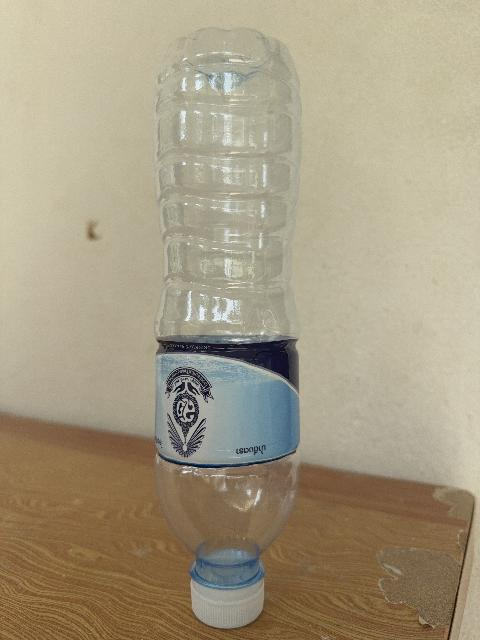bottle: (155, 29, 301, 627)
